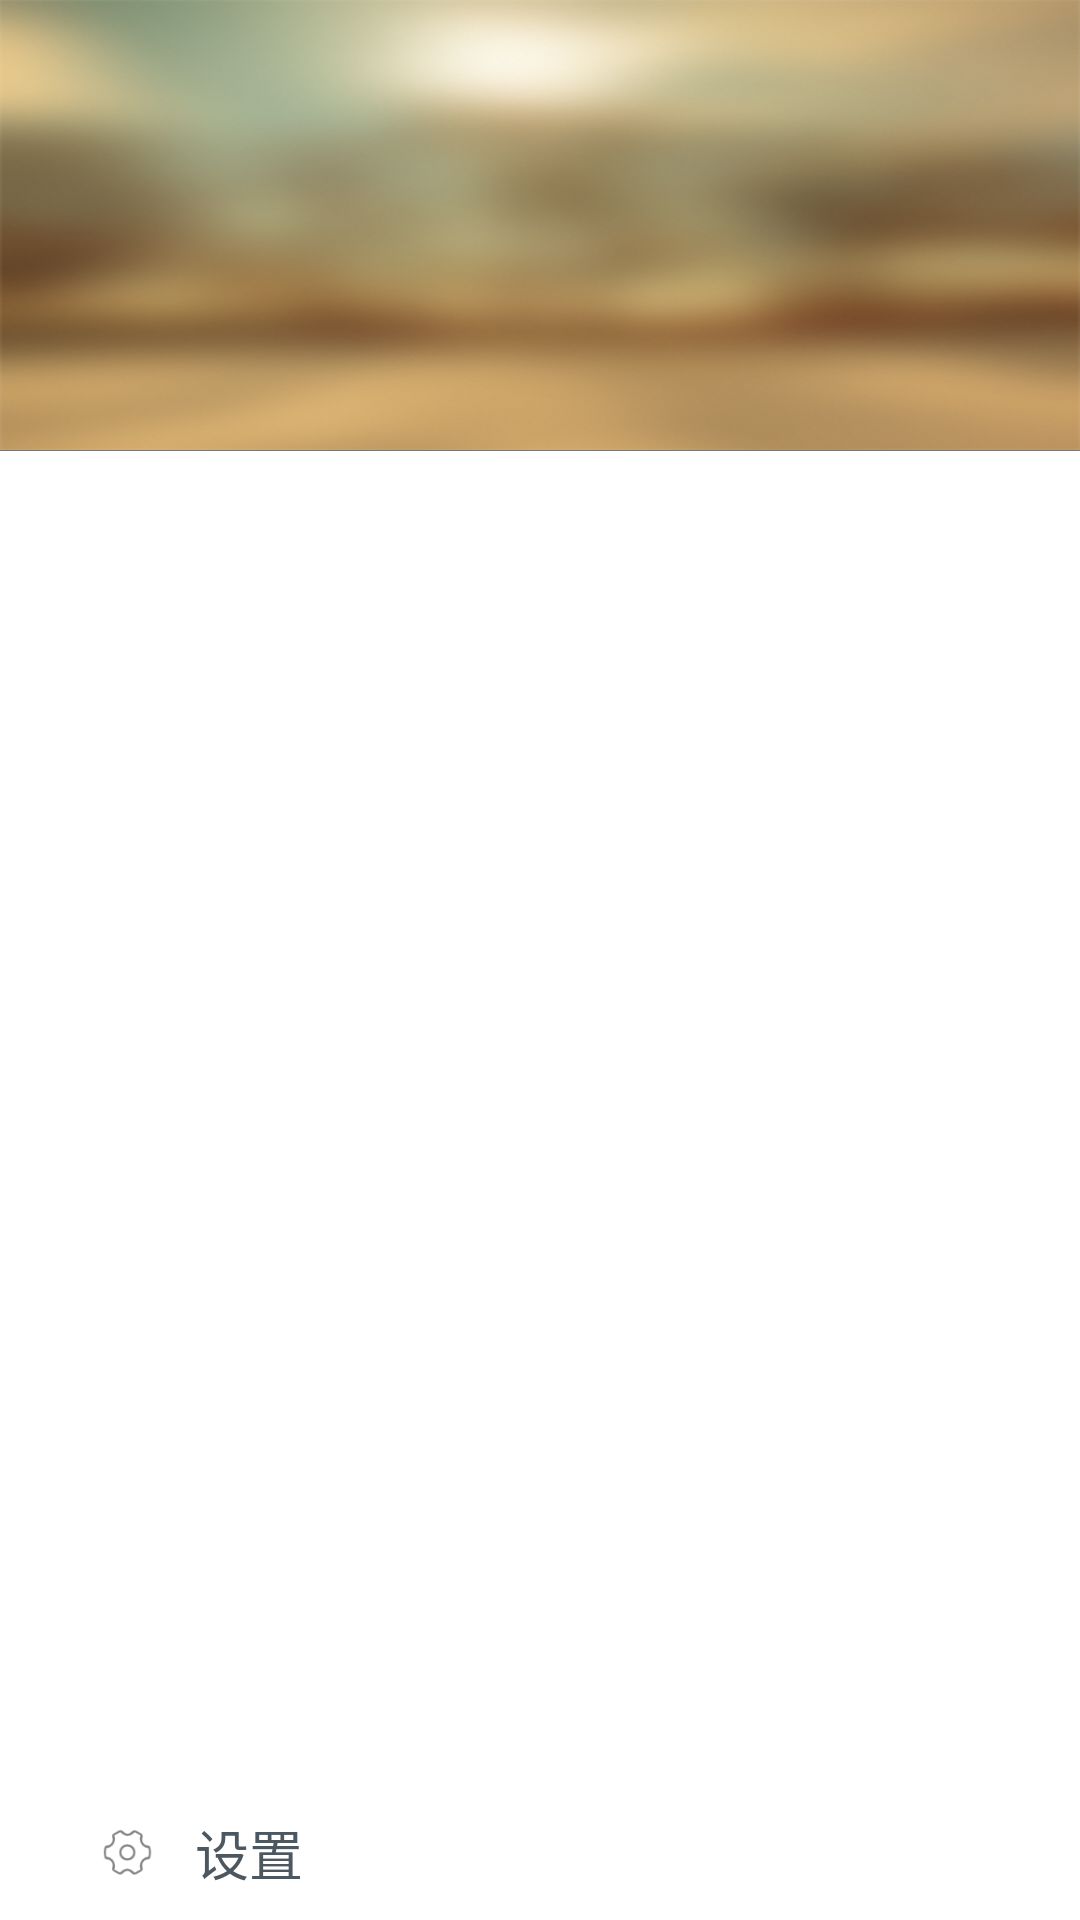

Named icons in this screenshot (1080 x 1920) and their bounding boxes, Rect(x1, y1, x2, y2):
left menu setting: Rect(104, 1830, 151, 1875)
